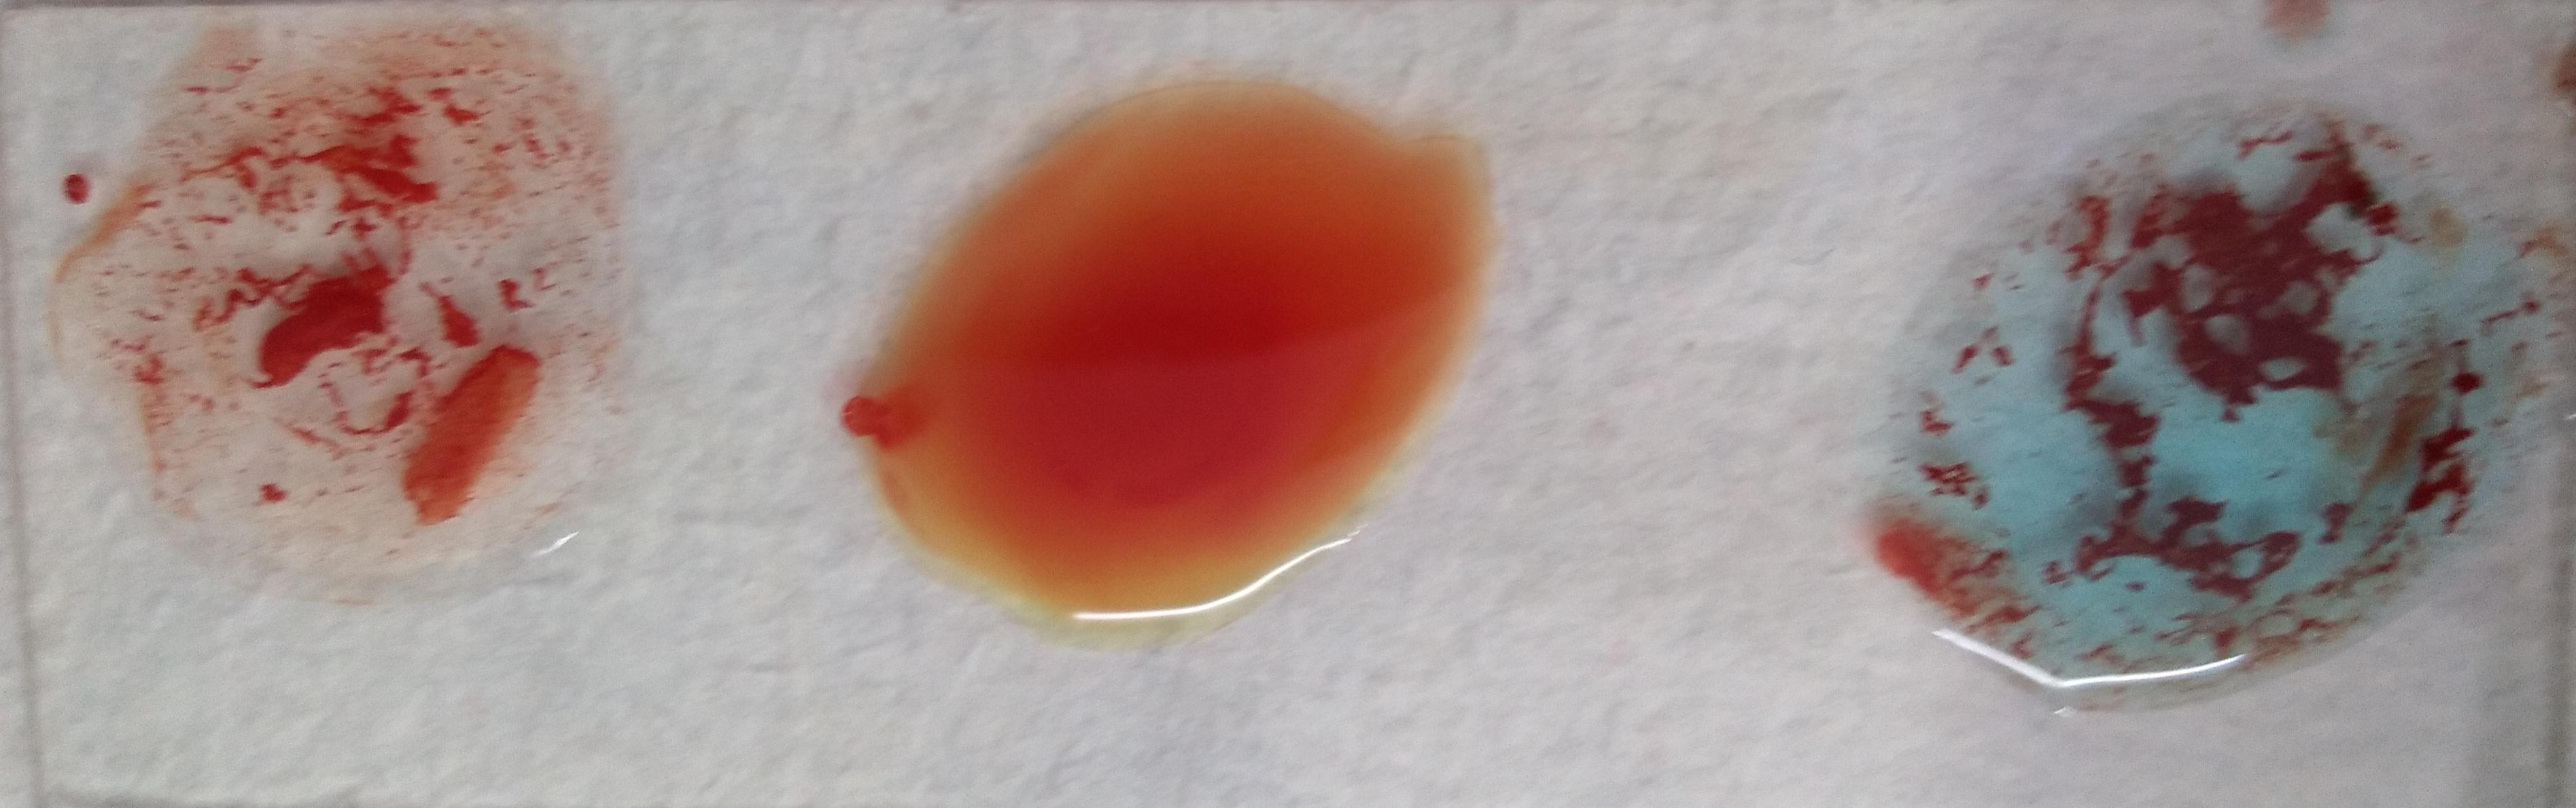A: (1917, 89, 2491, 706)
D: (117, 16, 626, 578)
